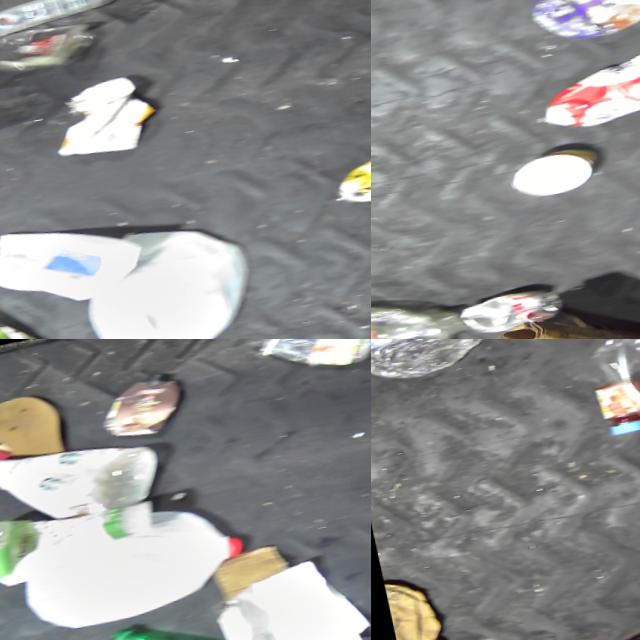can: (449, 289, 545, 339), (320, 125, 371, 213), (0, 514, 51, 598)
milk_jug: (4, 493, 252, 639), (67, 214, 259, 339), (0, 432, 166, 539), (0, 208, 144, 321)
non_white_jug: (517, 41, 640, 139), (525, 0, 640, 48)
plastic_bottle: (0, 21, 99, 85), (248, 339, 371, 388), (96, 605, 264, 640), (0, 0, 121, 43)
